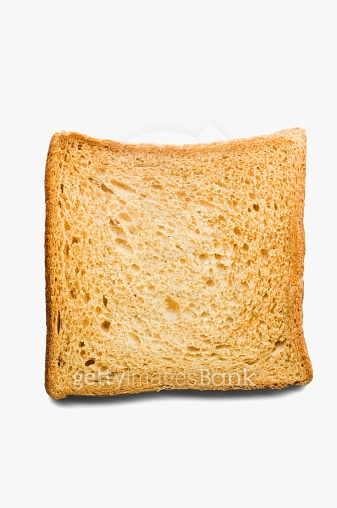slice of bread: (37, 120, 322, 423)
